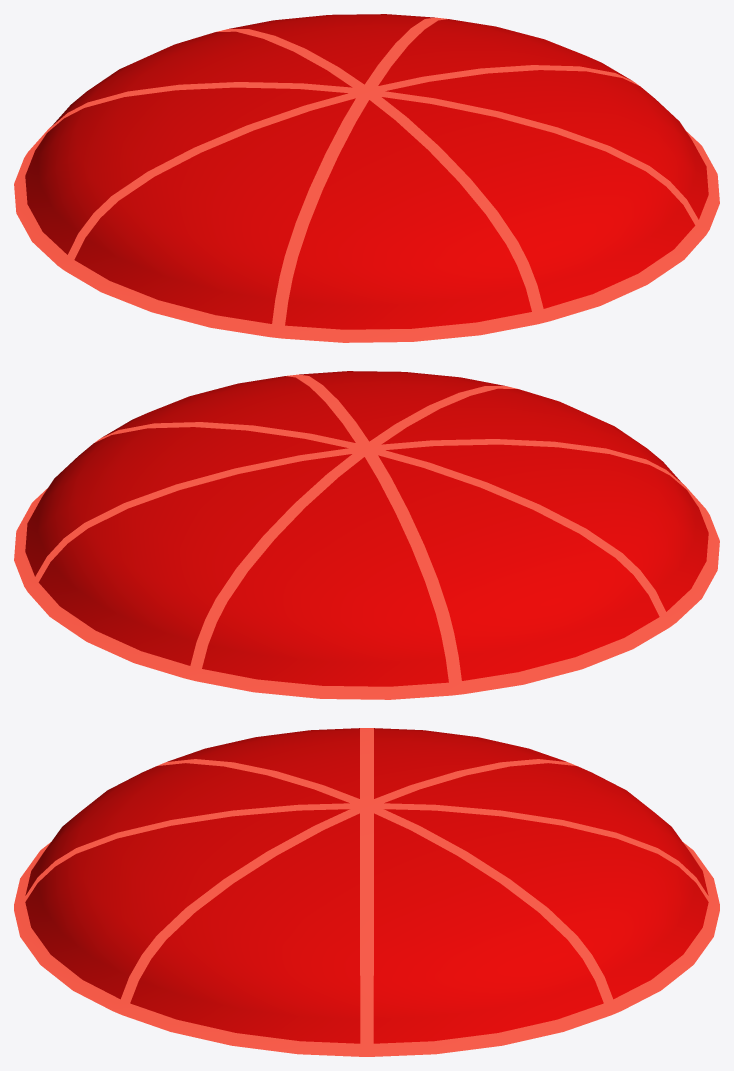
Rendered from TowerAffectedArea.glb.
3 views of the same model, one above another, from view 1: azimuth 30°, elevation 25°; view 2: azimuth 150°, elevation 25°; view 3: azimuth 270°, elevation 25° (orthographic).
Visible parts, largest first — view 1: TowerAffectedArea; view 2: TowerAffectedArea; view 3: TowerAffectedArea.
Boxes of the visible parts, x1=… form: TowerAffectedArea: x1=14, y1=14, x2=719, y2=342; TowerAffectedArea: x1=14, y1=371, x2=719, y2=699; TowerAffectedArea: x1=14, y1=728, x2=719, y2=1056.
Size of the model in its own units: 9.98 by 1.58 by 9.98.
